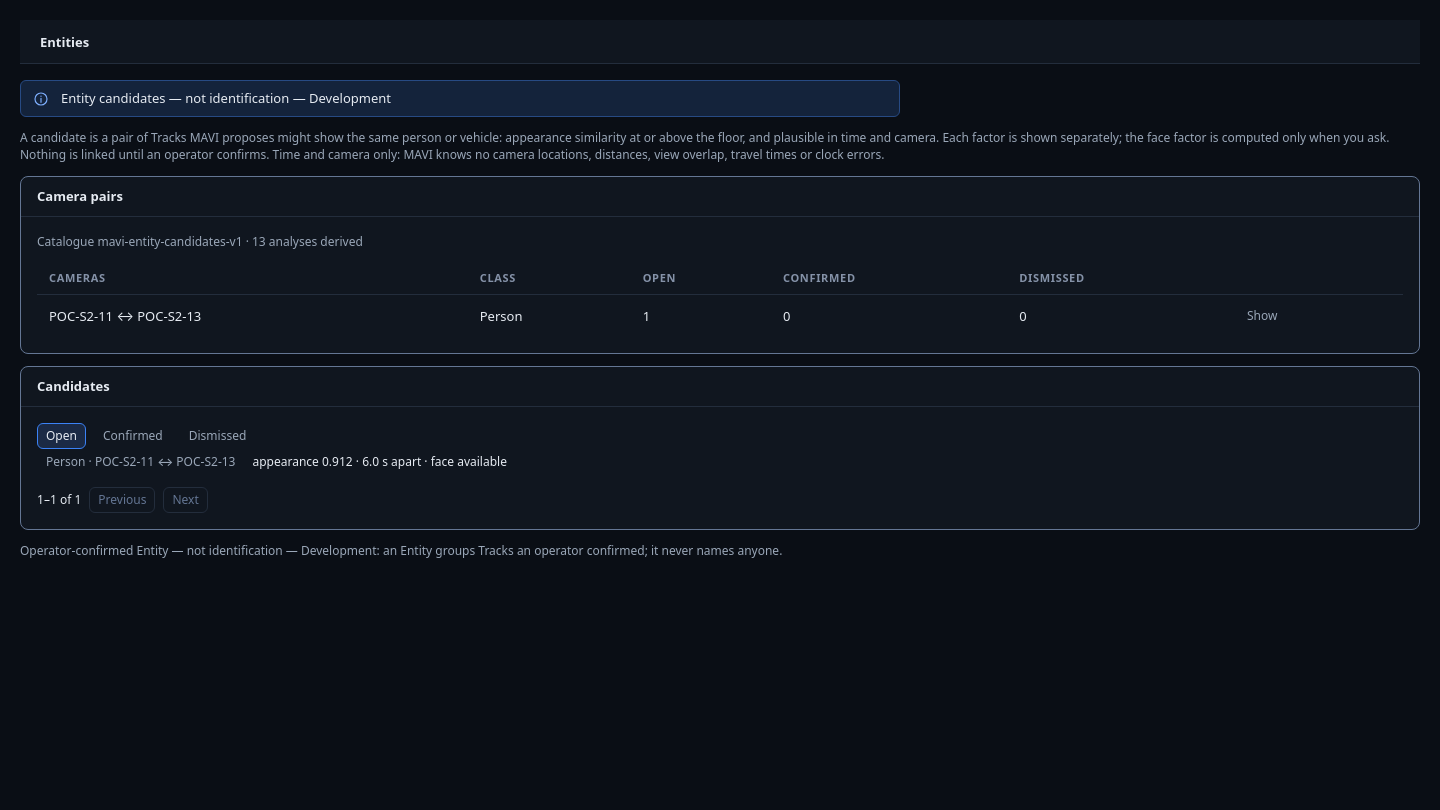
Test: PoC S7 Entities page › dismisses through the dialog and explains a refused confirmation in plain words
Click the button "Person · POC-S2-11 ↔ POC-S2-13" at point(141, 462), box [37,449,244,475]
(page scrolled)
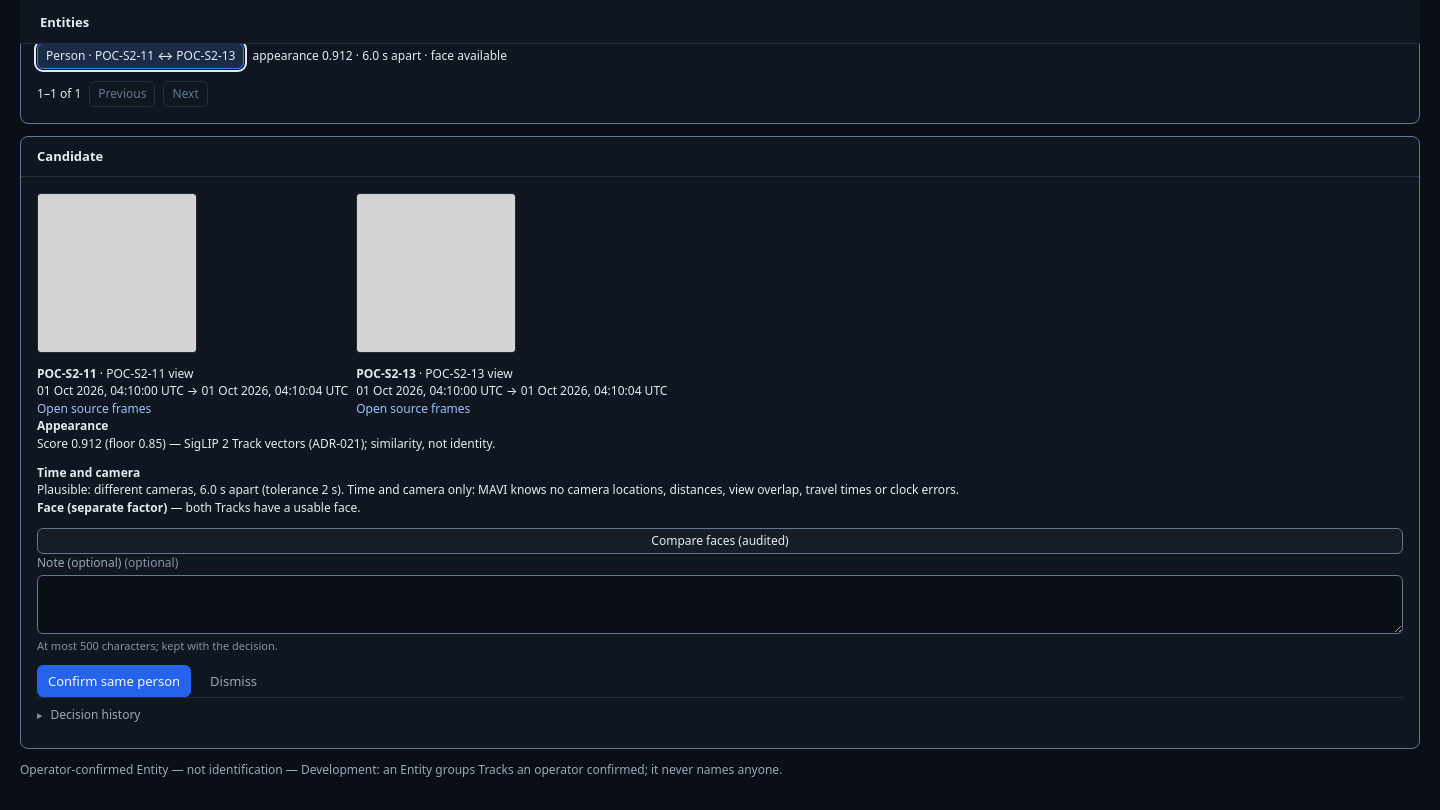
Click the button "Confirm same person" at point(114, 682), box [37,666,191,698]
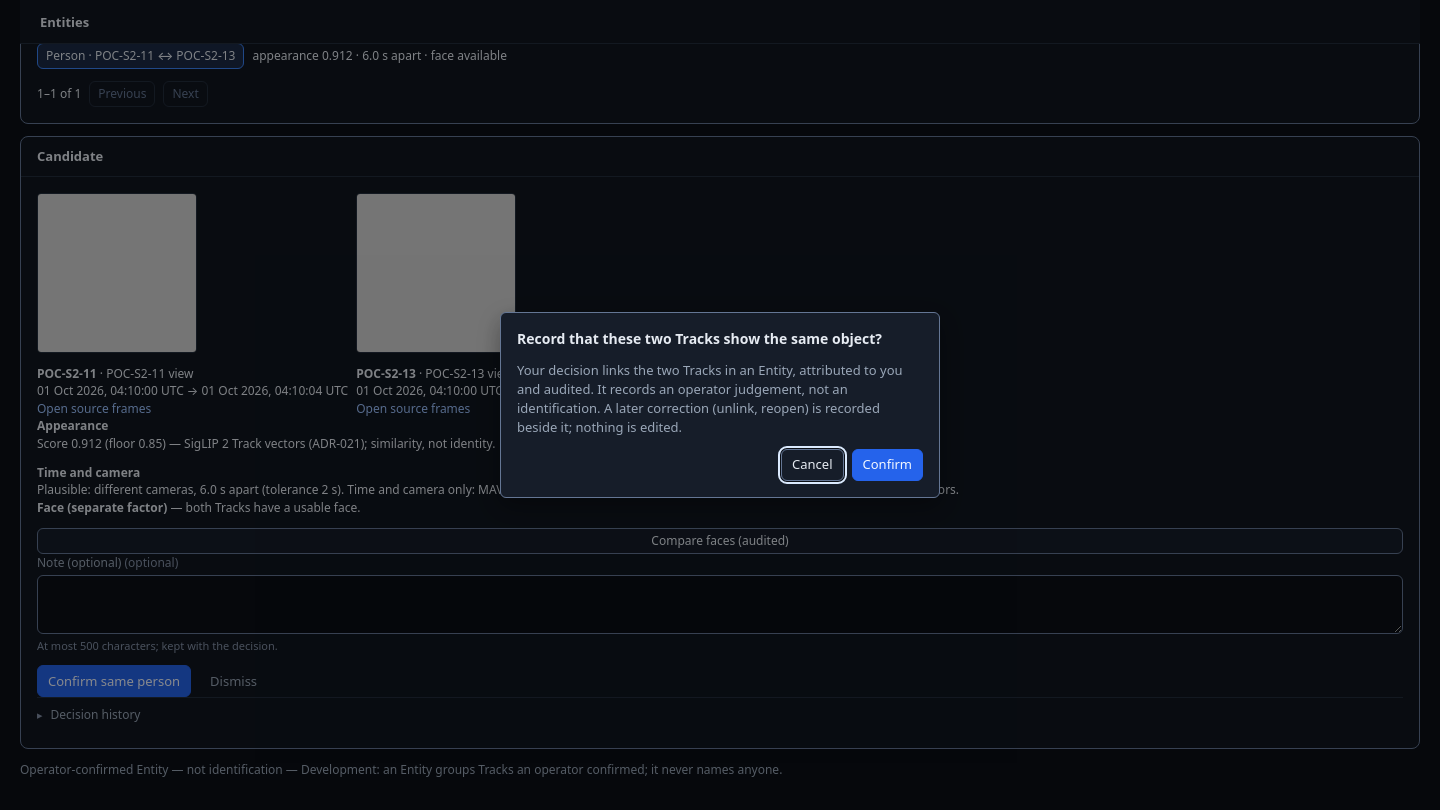
Click the button "Confirm" at point(887, 465), box [852,449,923,481]
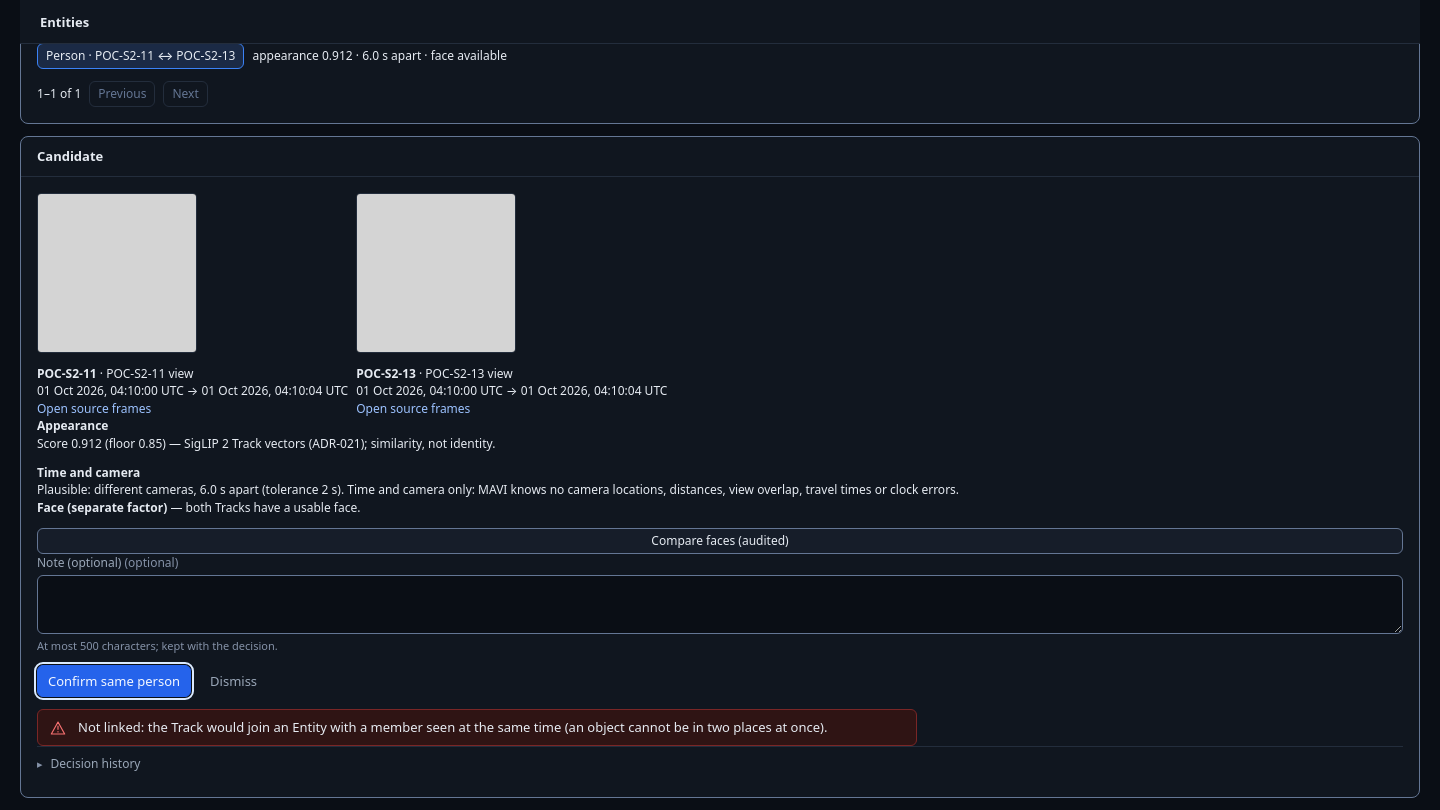
Expected: the text "cannot be in two places at once" is shown, [78,718,827,736]
Click the button "Dismiss" at point(234, 682), box [199,666,268,698]
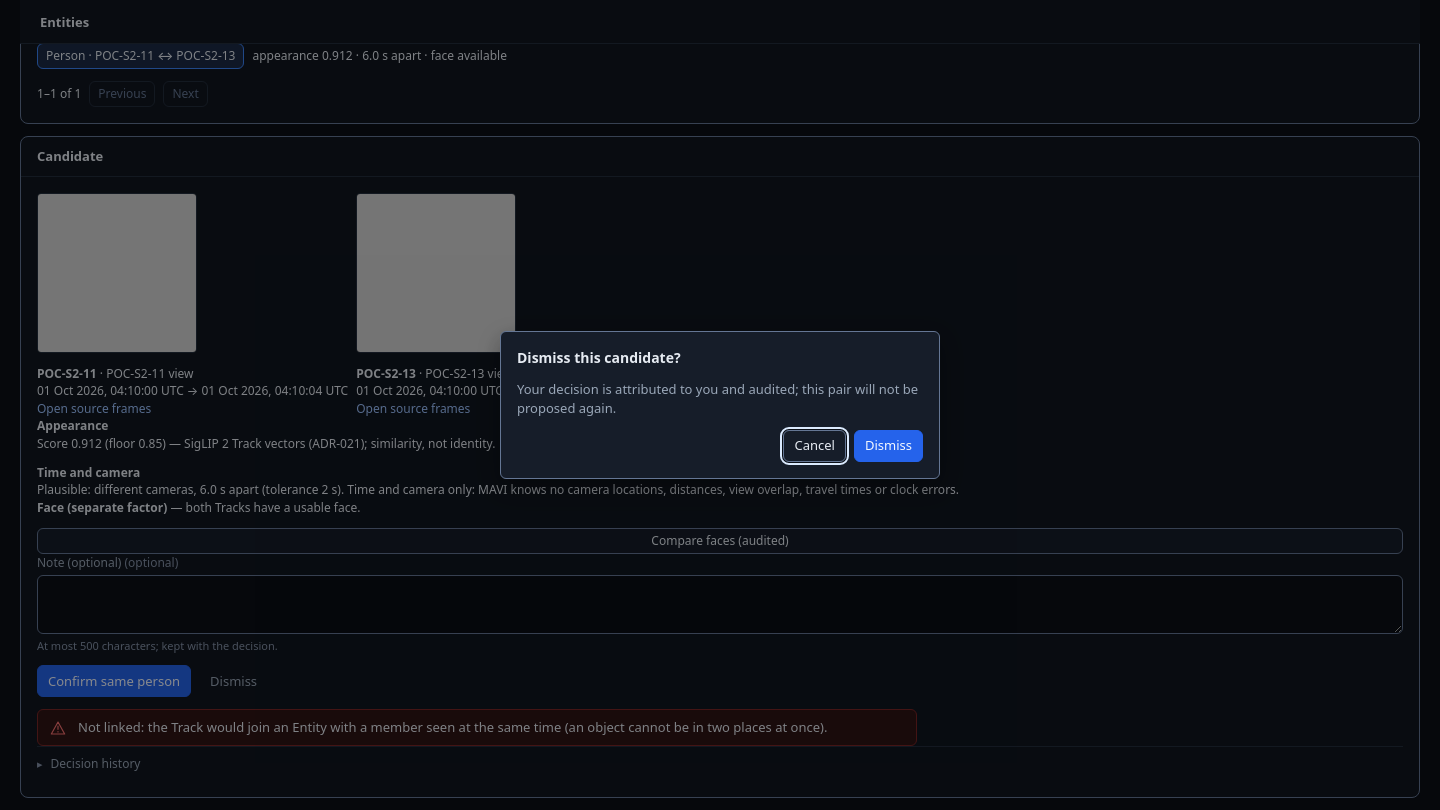
Click the button "Dismiss" at point(888, 446), box [854,430,923,462]
(page scrolled)
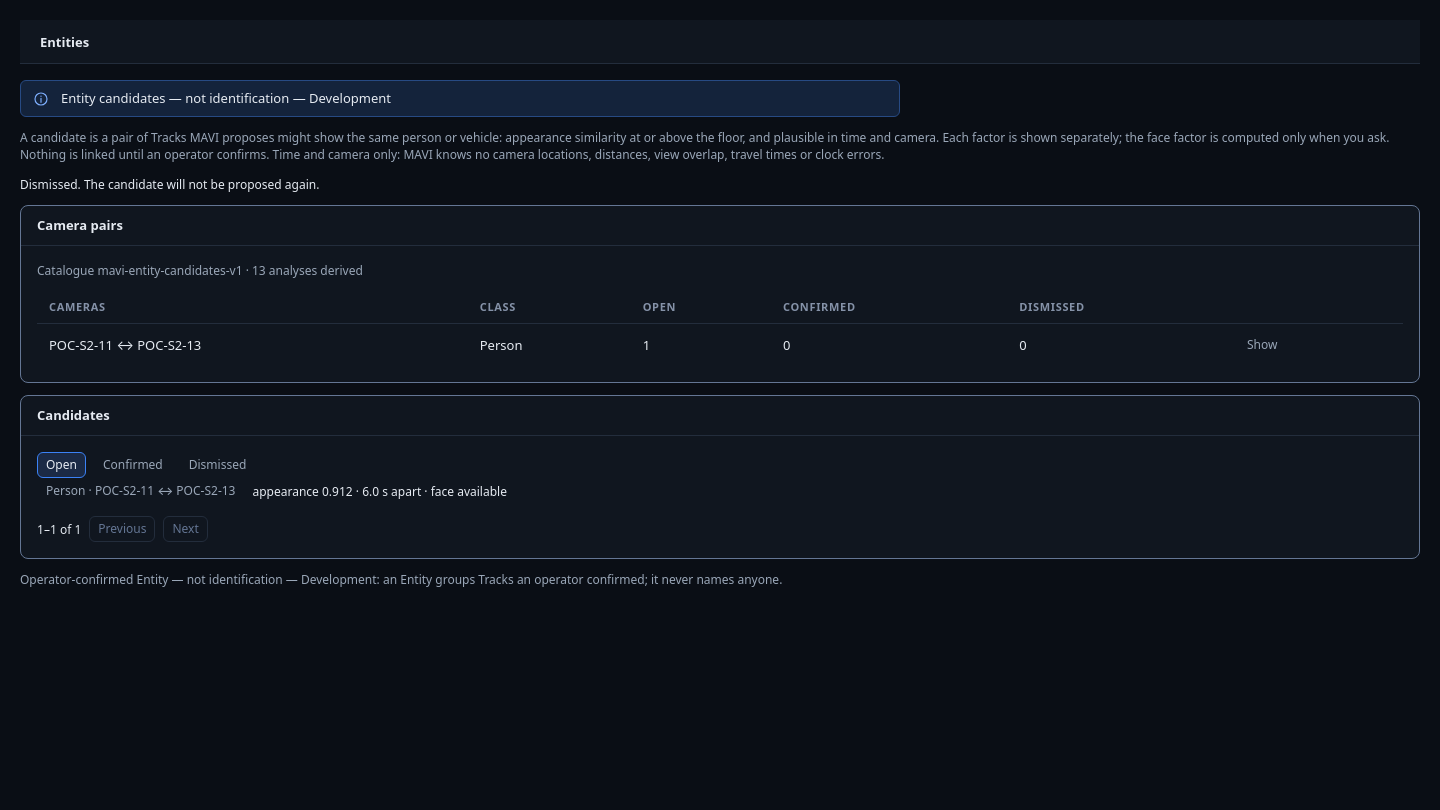
Expected: the text "Dismissed. The candidate will not be proposed again." is shown, [20,176,319,193]
